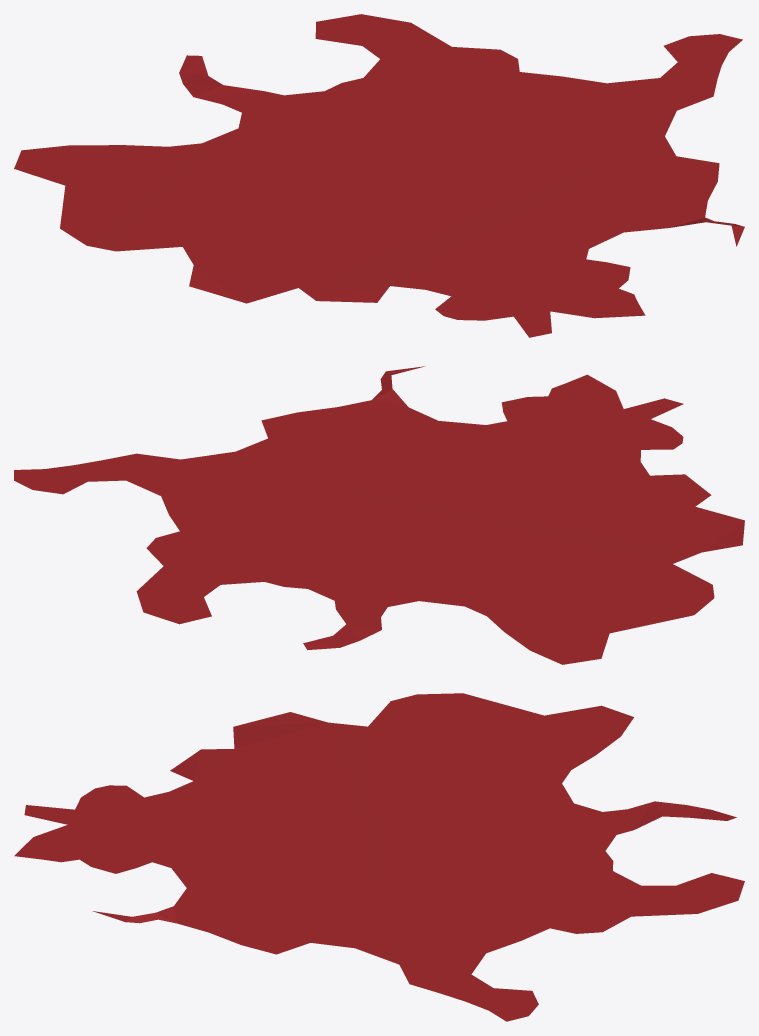
File: plama_krwi(1).dae
3 views of the same model, one above another, from view 1: azimuth 30°, elevation 25°; view 2: azimuth 150°, elevation 25°; view 3: azimuth 270°, elevation 25° (orthographic). The views are drawn at different scales.
Parts seen in each view (by area): view 1: Circle; view 2: Circle; view 3: Circle.
Boxes of the visible parts, box(x1,y1,x2,y2) form: Circle: box(14, 14, 744, 337); Circle: box(14, 366, 744, 664); Circle: box(14, 693, 744, 1021).
Size of the model in its own units: 2.22 by 2.09 by 0.0341.
